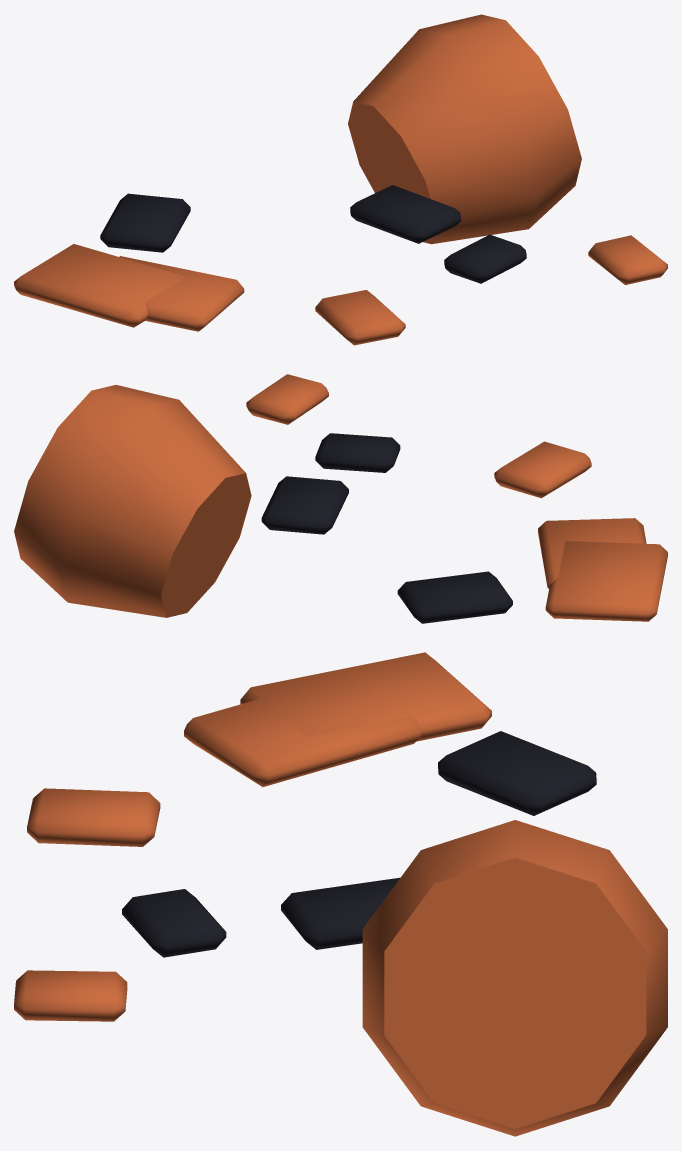
File: PotteryShards.fbx
3 views of the same model, one above another, from view 1: azimuth 30°, elevation 25°; view 2: azimuth 150°, elevation 25°; view 3: azimuth 270°, elevation 25° (orthographic). The views are drawn at different scales.
Parts seen in each view (by area): view 1: PotteryShards; view 2: PotteryShards; view 3: PotteryShards.
Boxes of the visible parts, bbox=[...] form: PotteryShards: bbox=[14, 14, 667, 345]; PotteryShards: bbox=[14, 374, 667, 623]; PotteryShards: bbox=[14, 652, 667, 1136].
Size of the model in its own units: 0.8058 by 0.2719 by 0.5702.
Materials: 1 (1 with a texture image).
